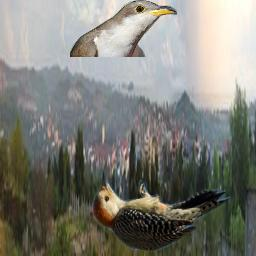Cuckoo: (70, 0, 177, 57)
Woodpecker: (81, 165, 236, 253)
